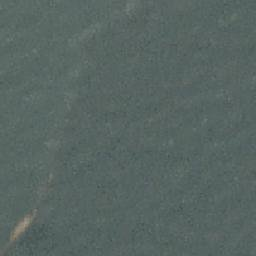debris: (9, 210, 37, 245)
